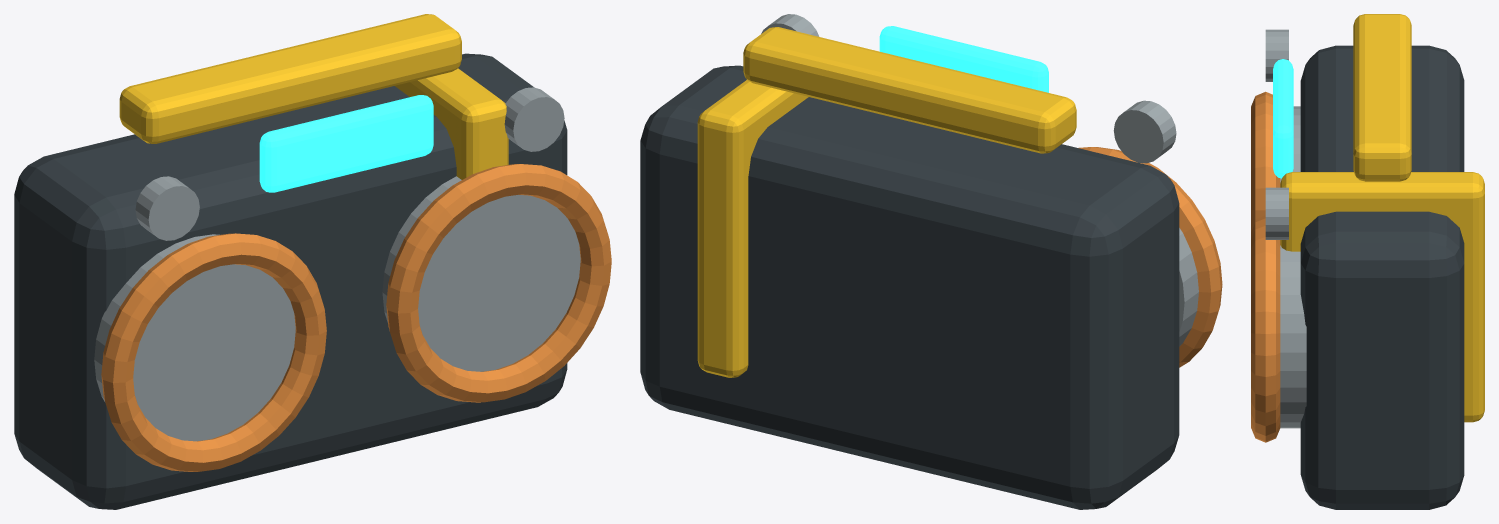
File: boombox_variant_b.glb
The picture shows the model from 3 angles, left to right: view 1: azimuth 30°, elevation 25°; view 2: azimuth 150°, elevation 25°; view 3: azimuth 270°, elevation 25°; orthographic projection. The views are drawn at different scales.
Parts seen in each view (by area): view 1: Speaker cabinet, Speaker cone, Speaker cone.001, Handle, Speaker surround.001, Speaker surround, Display, Reinforced side armor, Control knob.001, Control knob; view 2: Speaker cabinet, Handle, Reinforced side armor, Display, Speaker surround.001, Control knob.001, Speaker cone, Control knob; view 3: Speaker cabinet, Reinforced side armor, Handle, Speaker surround, Speaker cone.001, Speaker surround.001, Display, Control knob, Control knob.001, Speaker cone.
Boxes of the visible parts, box(x1,y1,x2,y2) form: Speaker cabinet: box(14, 53, 567, 509); Speaker cone: box(94, 234, 295, 441); Speaker cone.001: box(382, 176, 580, 371); Handle: box(119, 14, 461, 143); Speaker surround.001: box(101, 233, 326, 471); Speaker surround: box(386, 164, 611, 402); Display: box(259, 95, 433, 192); Reinforced side armor: box(395, 68, 508, 179); Control knob.001: box(135, 176, 199, 240); Control knob: box(504, 87, 564, 151); Speaker cabinet: box(640, 65, 1179, 509); Handle: box(743, 27, 1076, 153); Reinforced side armor: box(697, 80, 808, 377); Display: box(879, 26, 1048, 92); Speaker surround.001: box(1078, 147, 1222, 367); Control knob.001: box(1113, 100, 1176, 163); Speaker cone: box(1179, 228, 1198, 346); Control knob: box(761, 14, 819, 36); Speaker cabinet: box(1300, 45, 1464, 509); Reinforced side armor: box(1280, 172, 1484, 422); Handle: box(1353, 14, 1411, 181); Speaker surround: box(1251, 215, 1280, 442); Speaker cone.001: box(1280, 245, 1306, 428); Speaker surround.001: box(1251, 91, 1280, 229); Display: box(1273, 59, 1293, 178); Control knob: box(1265, 187, 1288, 239); Control knob.001: box(1265, 29, 1288, 81); Speaker cone: box(1280, 106, 1300, 182).
Size of what is drawn, in the model's own units: 0.89 by 0.635 by 0.4.
